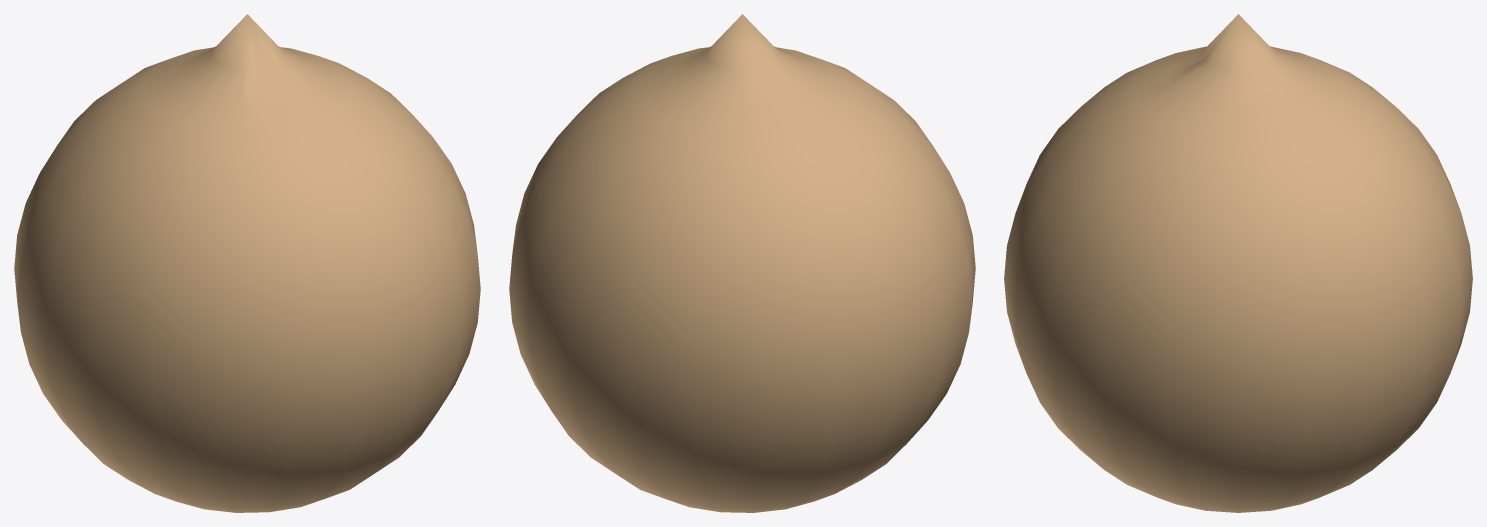
The model's file is Onion.fbx.
3 views of the same model, side by side, from view 1: azimuth 30°, elevation 25°; view 2: azimuth 150°, elevation 25°; view 3: azimuth 270°, elevation 25° (orthographic).
Parts seen in each view (by area): view 1: pSphere1; view 2: pSphere1; view 3: pSphere1.
Part boxes in pixels (left/top/right/bottom): pSphere1: left=14, top=14, right=480, bottom=512; pSphere1: left=509, top=14, right=975, bottom=512; pSphere1: left=1004, top=14, right=1472, bottom=512.
Bounding box in the file's own units: 1.82 × 2.05 × 1.82.
